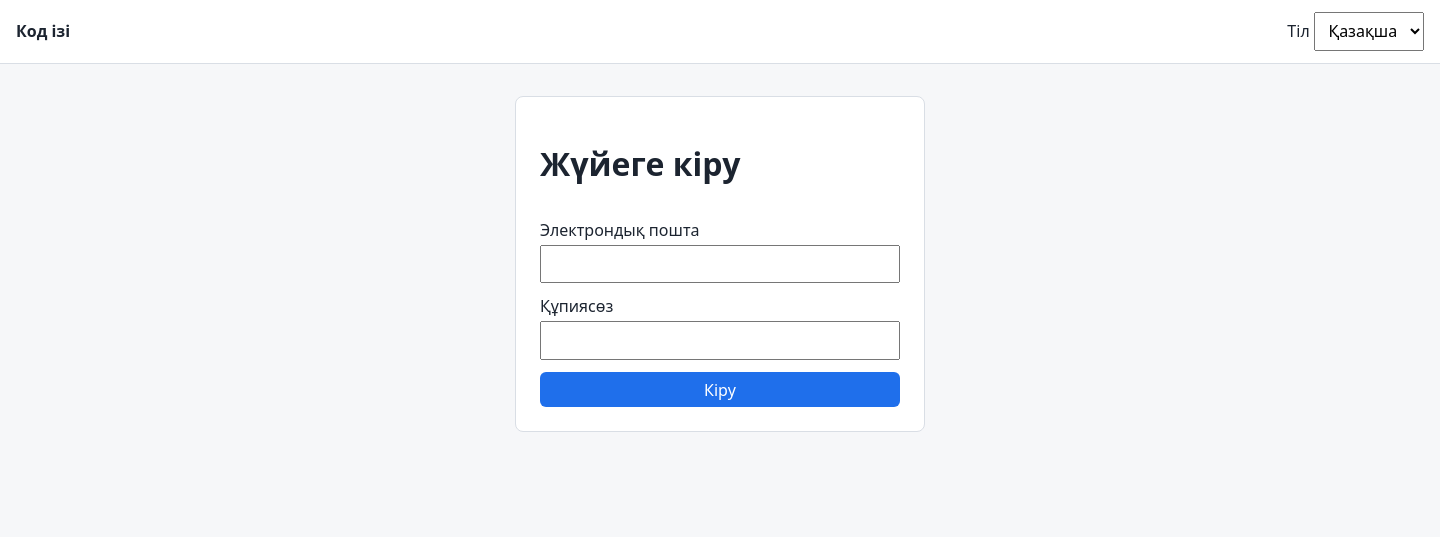
Test: sec14 login page › sec14: too many attempts shows the rate-limit message
Type "student@example.com" into the field labelled "Электрондық пошта".
click(720, 264); type("student@example.com")  # box [540, 245, 900, 284]
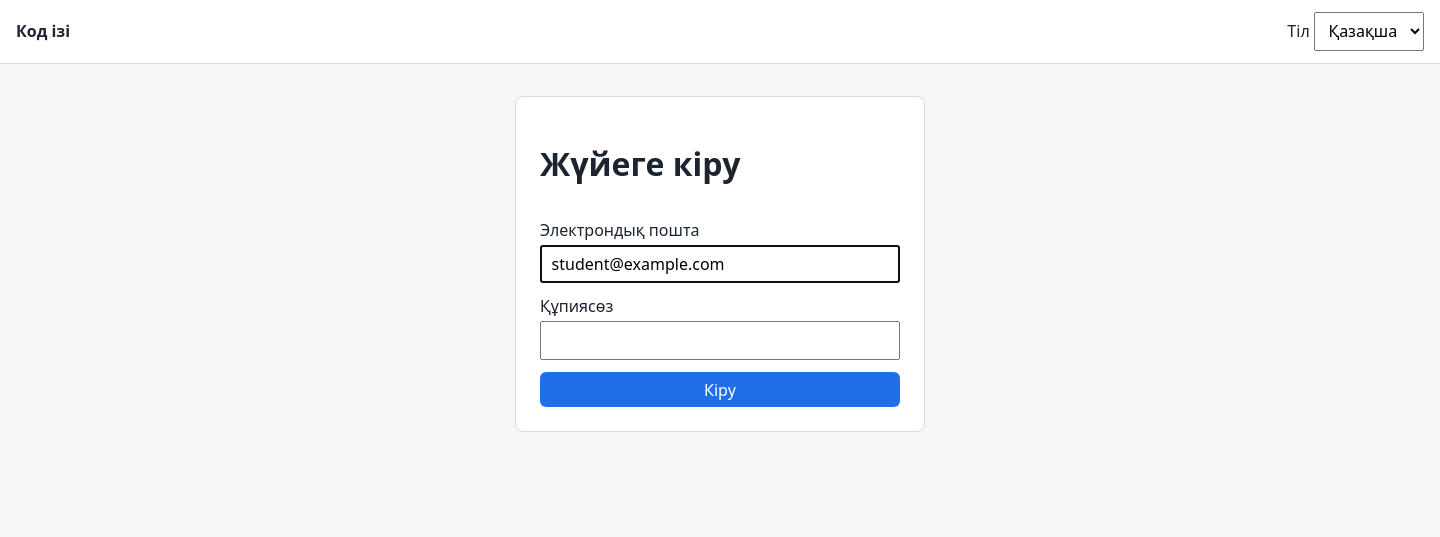
Type "wrong" into the password field labelled "Құпиясөз".
click(720, 341); type("wrong")  # box [540, 321, 900, 360]
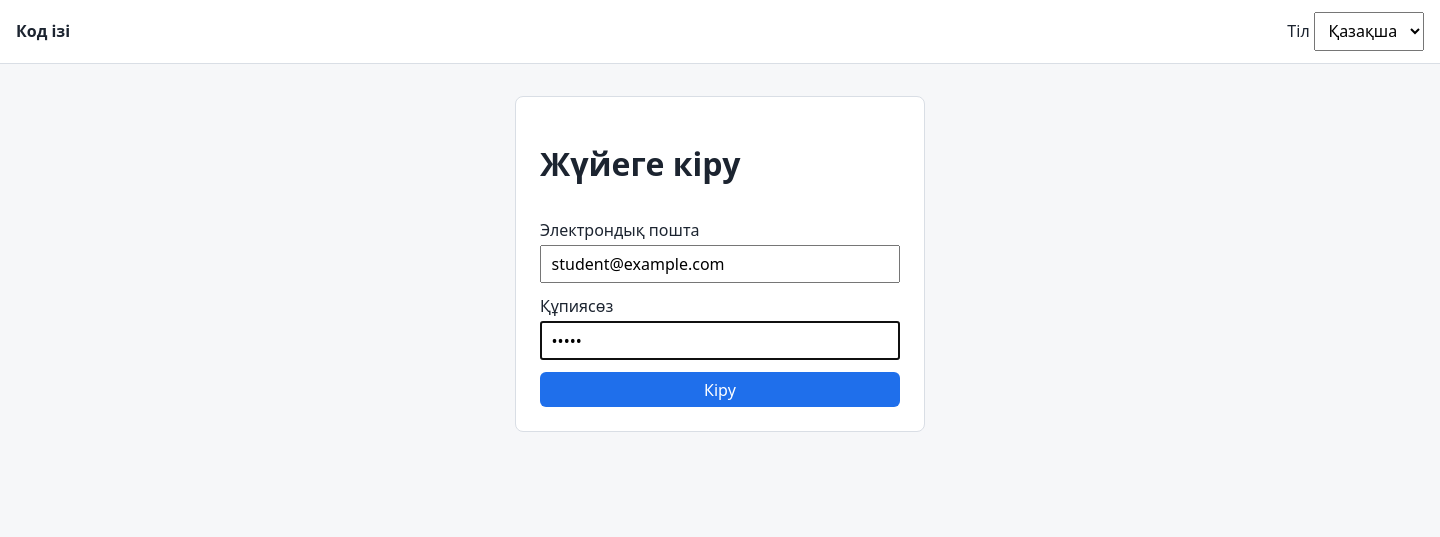
Click the button "Кіру".
click(720, 390)  # box [540, 372, 900, 407]
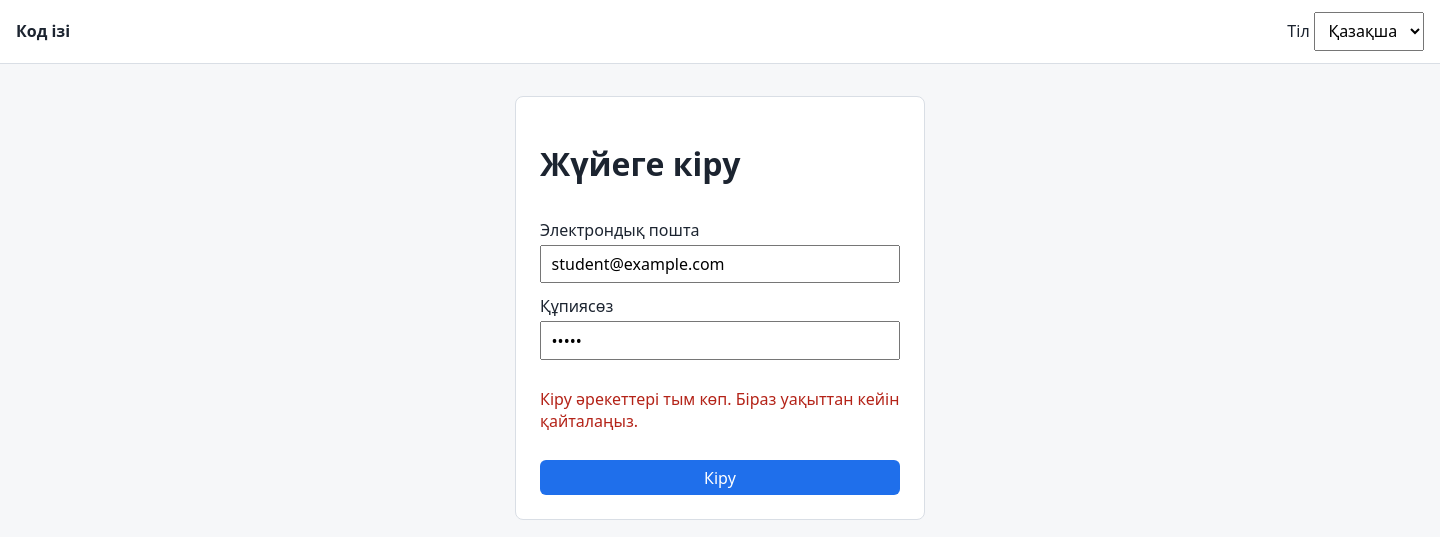
Expected: the message shows "Кіру әрекеттері тым көп.", [540, 388, 899, 432]
